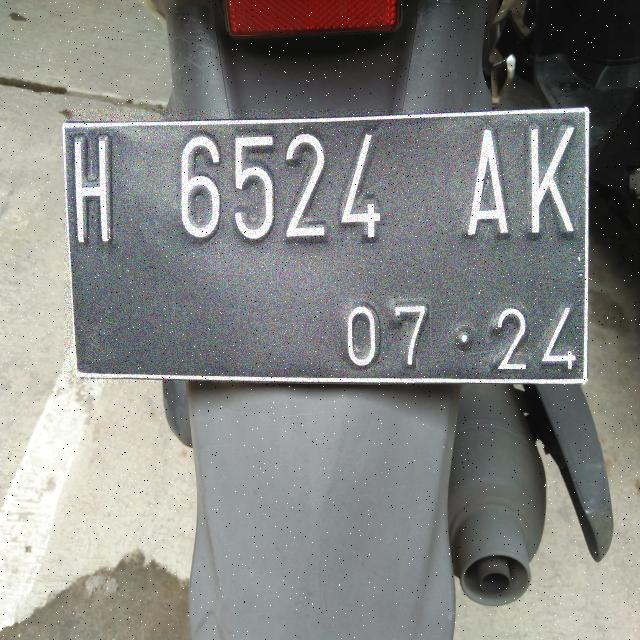plate: (64, 110, 587, 382)
